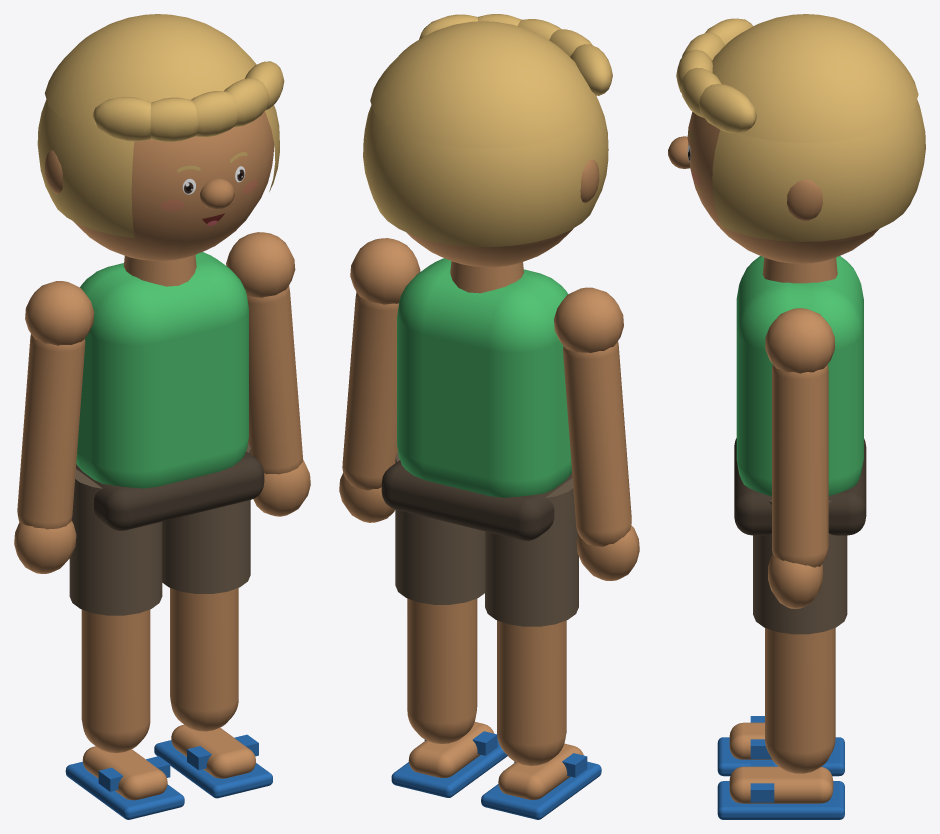
Rendered from kisi-rastgele.glb.
The picture shows the model from 3 angles, left to right: view 1: azimuth 30°, elevation 25°; view 2: azimuth 150°, elevation 25°; view 3: azimuth 270°, elevation 25°; orthographic projection.
Visible parts, largest first — view 1: bas, govde, bacakL, bacakR, kolL, kolR; view 2: bas, govde, bacakL, bacakR, kolL, kolR; view 3: bas, govde, bacakR, kolR, bacakL.
Part boxes in pixels (x1,y1,x2,y2): bas: (37, 14, 284, 260); govde: (76, 252, 264, 530); bacakL: (65, 469, 184, 819); bacakR: (154, 442, 272, 798); kolL: (14, 281, 94, 573); kolR: (226, 232, 310, 516); bas: (363, 14, 612, 267); govde: (381, 258, 572, 540); bacakL: (481, 478, 601, 819); bacakR: (391, 451, 507, 797); kolL: (554, 287, 639, 580); kolR: (339, 238, 420, 522); bas: (668, 14, 925, 263); govde: (734, 256, 866, 535); bacakR: (717, 500, 847, 819); kolR: (765, 308, 834, 608); bacakL: (717, 716, 844, 776).
Size of the model in its own units: 0.6683 by 1.64 by 0.506.
8 materials, 1 textured.
